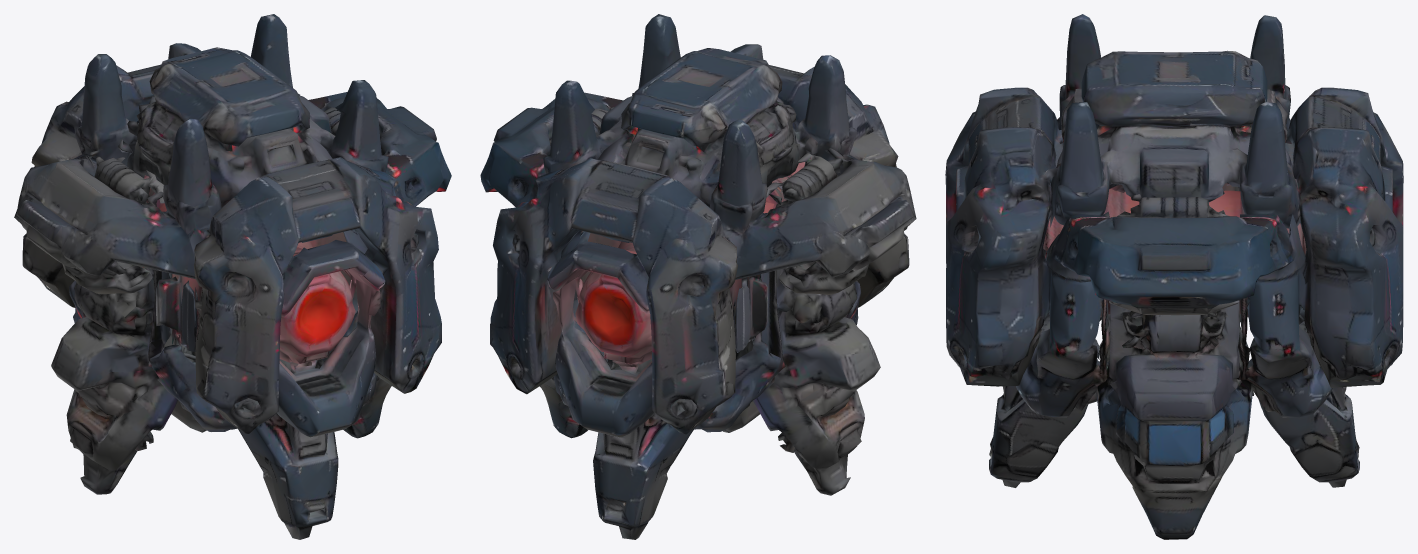
The model's file is boss.glb.
3 views of the same model, side by side, from view 1: azimuth 30°, elevation 25°; view 2: azimuth 150°, elevation 25°; view 3: azimuth 270°, elevation 25° (orthographic). The views are drawn at different scales.
Parts seen in each view (by area): view 1: tripo_node_96e4a767-7bf7-4e42-87b8-53c853932772; view 2: tripo_node_96e4a767-7bf7-4e42-87b8-53c853932772; view 3: tripo_node_96e4a767-7bf7-4e42-87b8-53c853932772.
Part boxes in pixels (x1,y1,x2,y2): tripo_node_96e4a767-7bf7-4e42-87b8-53c853932772: (14,14,451,539); tripo_node_96e4a767-7bf7-4e42-87b8-53c853932772: (480,14,916,539); tripo_node_96e4a767-7bf7-4e42-87b8-53c853932772: (945,14,1403,539).
Bounding box in the file's own units: 0.9865 × 1 × 0.9617.
1 material, 1 textured.
